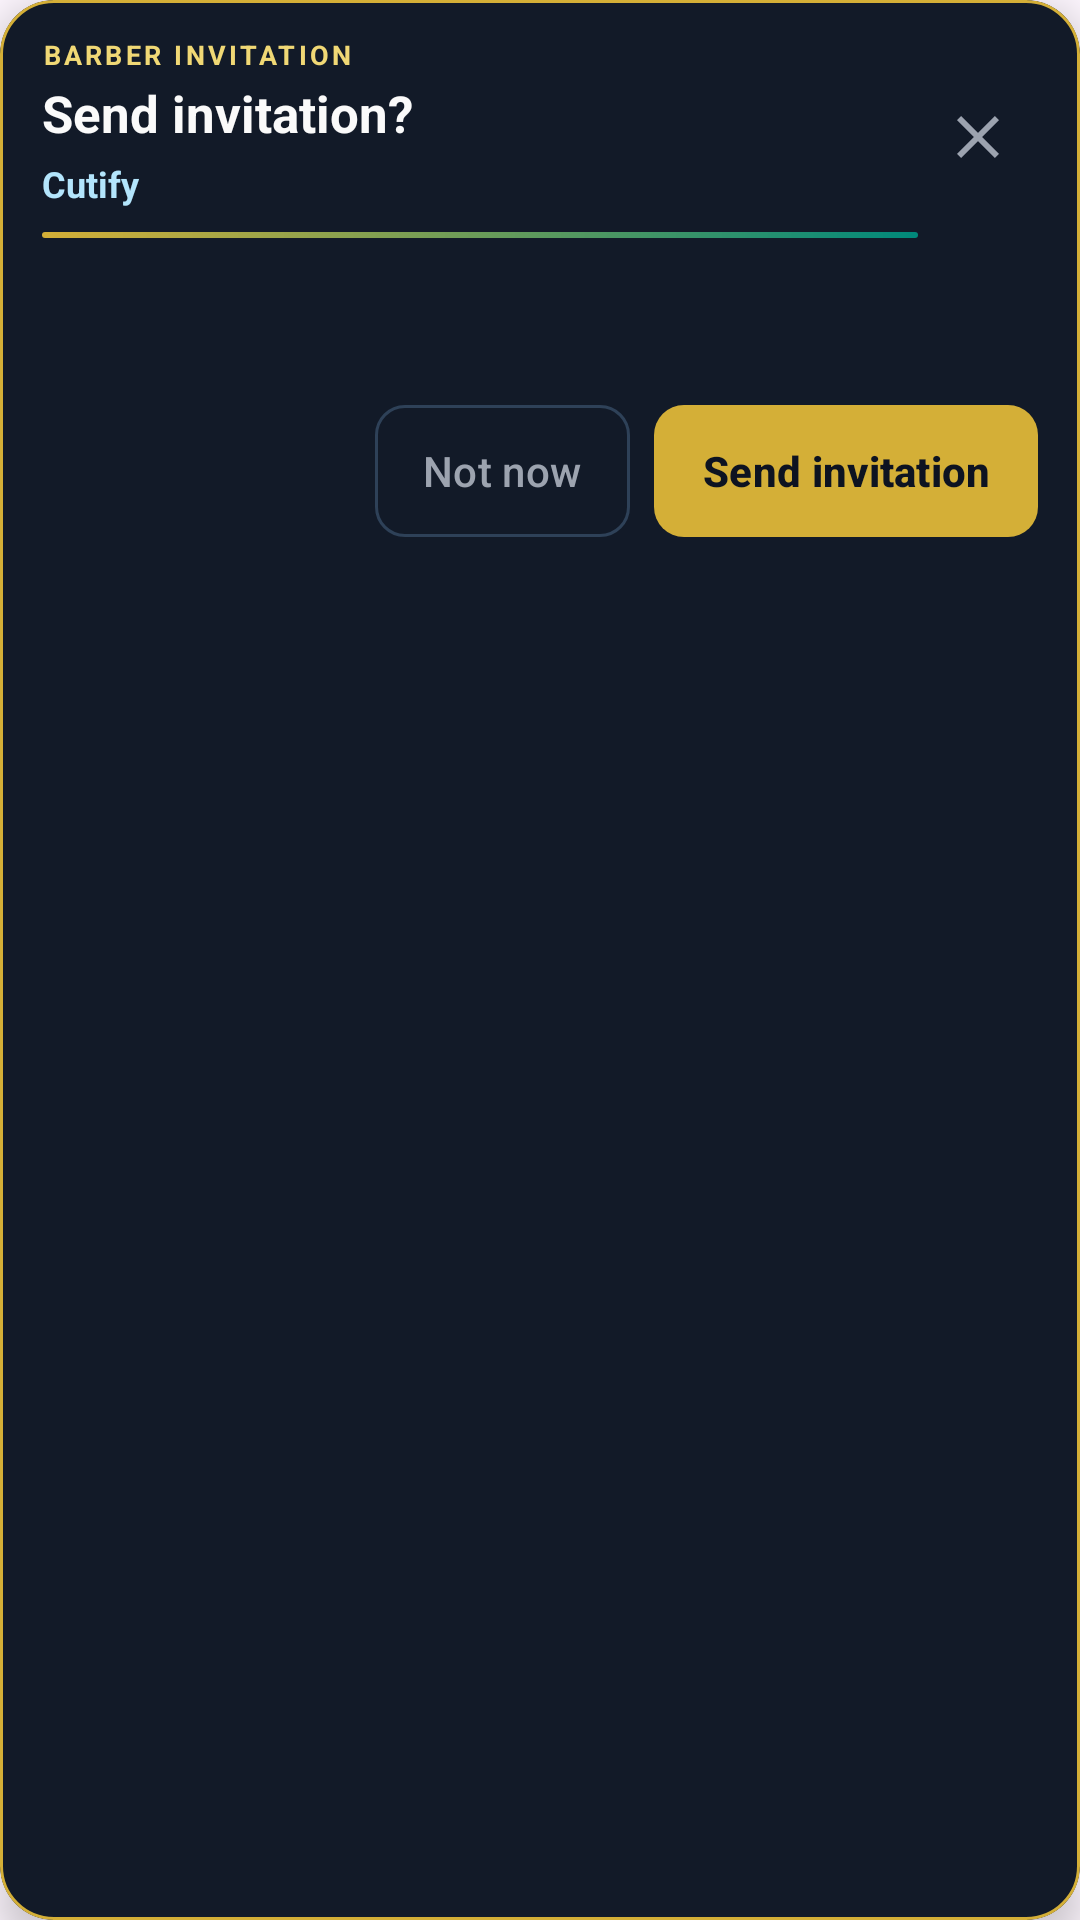

Icons on this 1080*1920 Android screen, each with the point to tap as [x,y]:
Close: [978,137]
